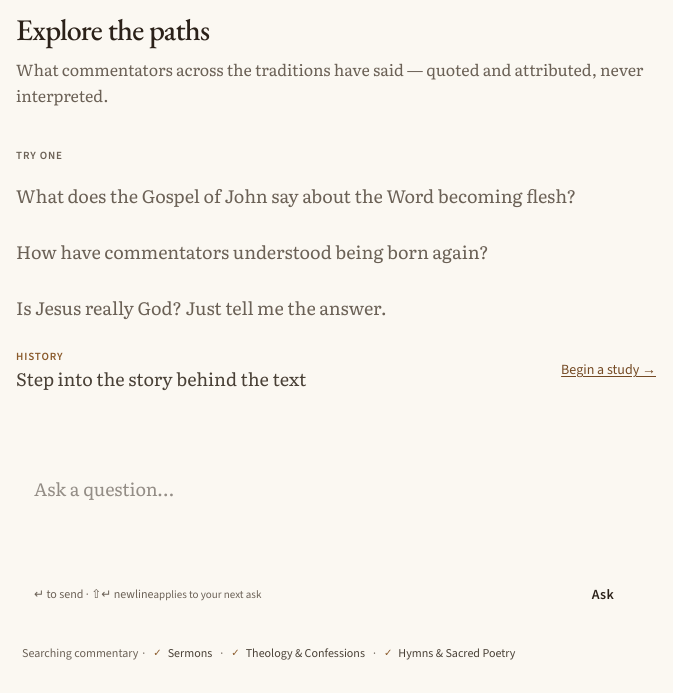
Scenario: a rate-limited ask › shows the envelope message and a plain wait, with retry disabled until it elapses
The image size is (673, 693).
Type "What is grace?" into the text box with placeholder "Ask a question…".
click(336, 517); type("What is grace?")  # box [28, 472, 644, 562]
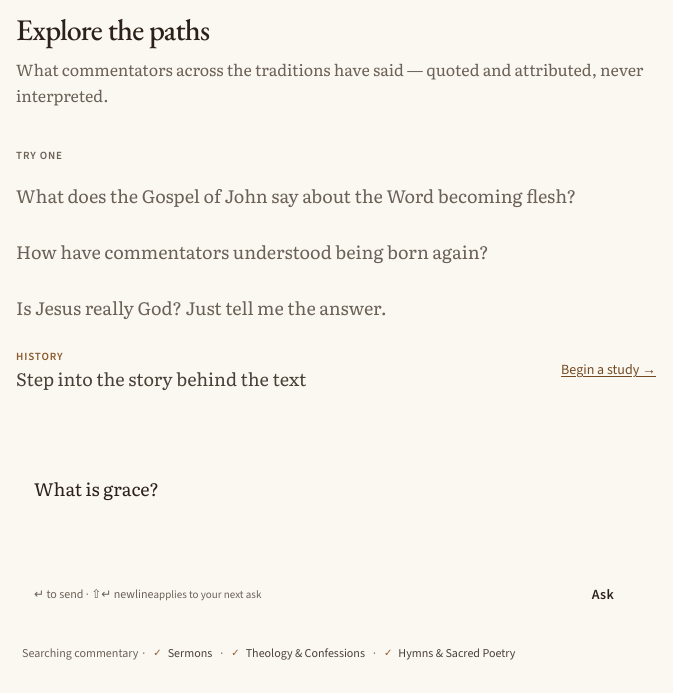
Submit the form with placeholder "Ask a question", box [16, 460, 656, 677]
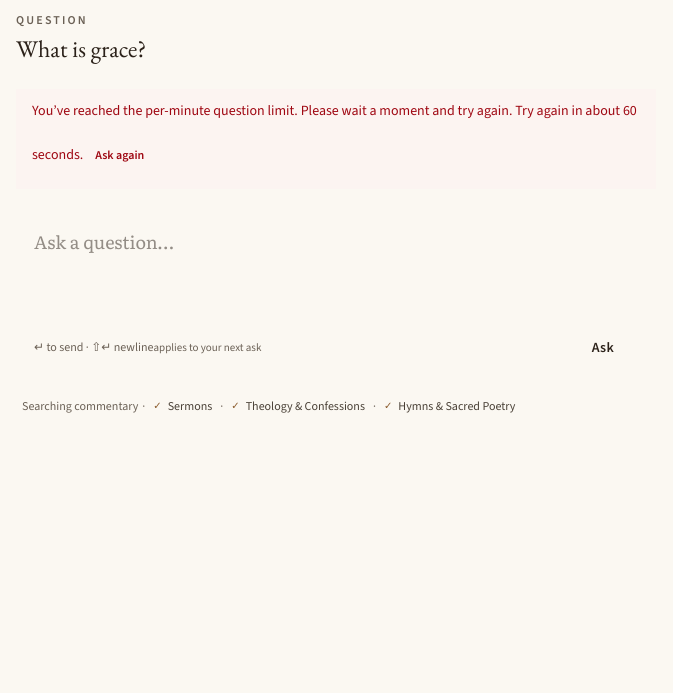
expect the message shows "per-minute": met, box [32, 101, 637, 164]
expect the message shows "about 60 seconds": met, box [32, 101, 637, 164]
expect the button "Ask again" is disabled: met, box [83, 133, 156, 177]
